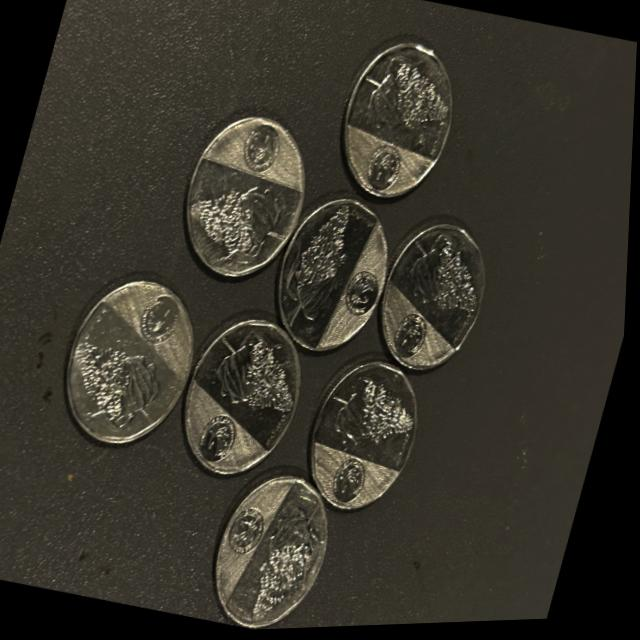10_New_Back: (216, 472, 343, 628), (181, 114, 311, 266), (71, 290, 197, 446), (176, 327, 305, 471), (344, 50, 459, 197), (377, 230, 490, 369), (311, 367, 420, 510)
